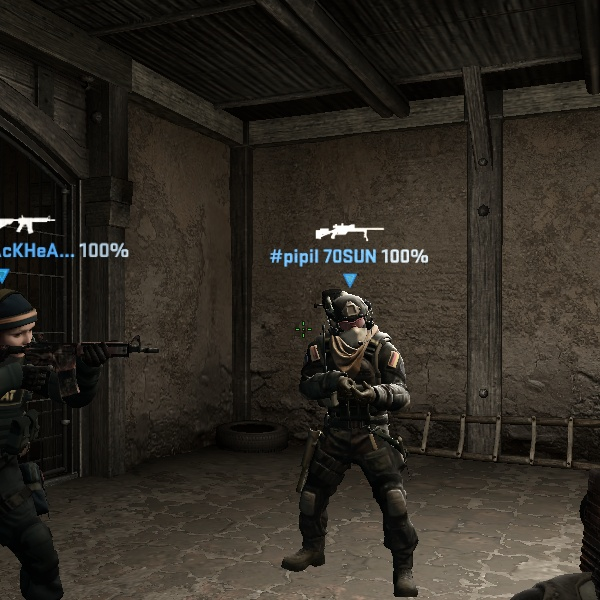ct_body: (273, 285, 443, 587)
ct_head: (320, 286, 382, 351)
